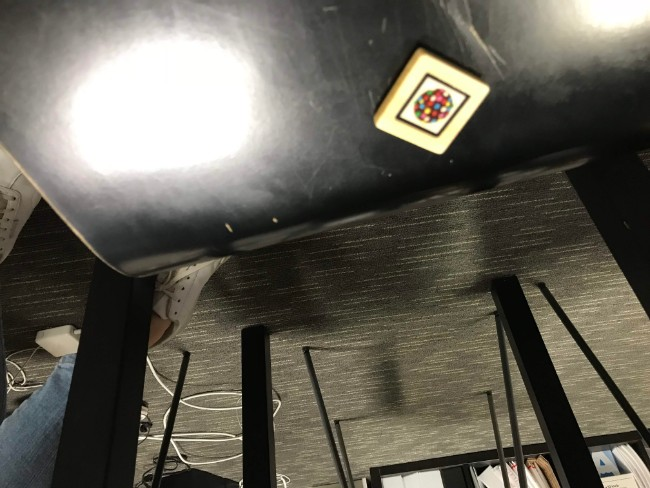cookie: (392, 68, 477, 142)
